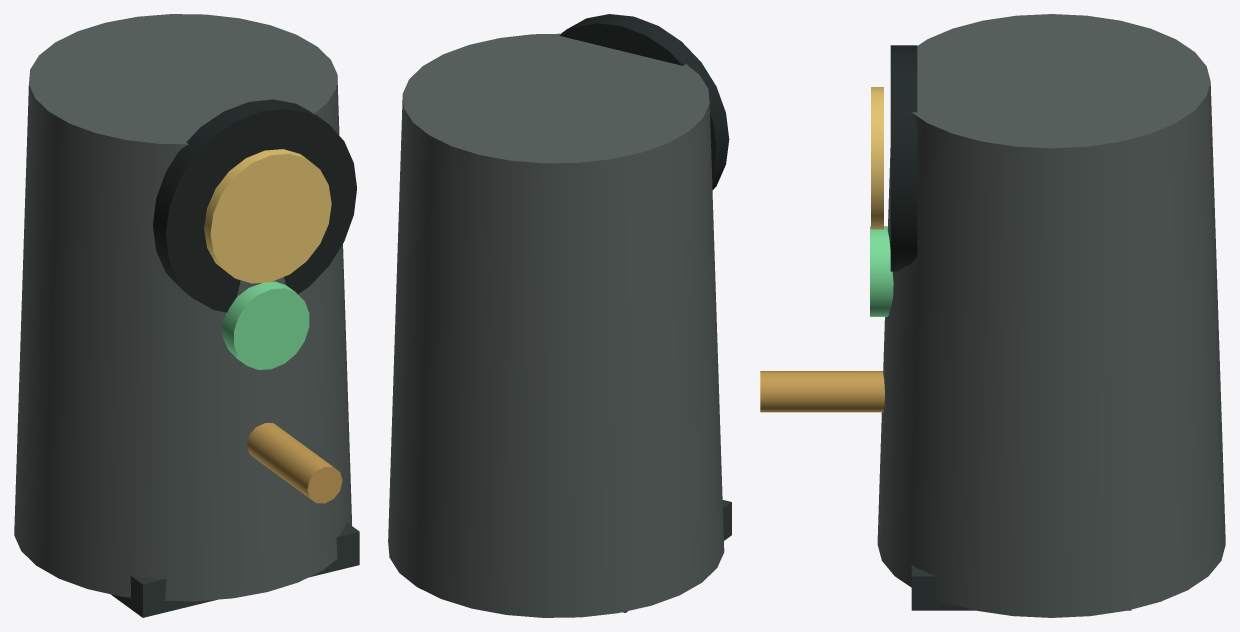
Rendered from water-dispenser.glb.
3 renders of one model, left to right at view 1: azimuth 30°, elevation 25°; view 2: azimuth 150°, elevation 25°; view 3: azimuth 270°, elevation 25°, orthographic. The views are drawn at different scales.
Parts seen in each view (by area): view 1: InsulatedBoiler, TemperatureDisplay, TemperatureFace, DispenseButton, BrassSpout, CupTray; view 2: InsulatedBoiler, TemperatureDisplay; view 3: InsulatedBoiler, TemperatureDisplay, BrassSpout, DispenseButton, TemperatureFace, CupTray.
Part boxes in pixels (<box>): InsulatedBoiler: <box>14,14,351,601</box>; TemperatureDisplay: <box>153,99,356,312</box>; TemperatureFace: <box>204,149,331,283</box>; DispenseButton: <box>222,281,309,369</box>; BrassSpout: <box>247,423,342,503</box>; CupTray: <box>111,523,359,617</box>; InsulatedBoiler: <box>388,33,724,617</box>; TemperatureDisplay: <box>559,14,729,189</box>; InsulatedBoiler: <box>877,14,1225,617</box>; TemperatureDisplay: <box>890,45,917,271</box>; BrassSpout: <box>760,371,884,412</box>; DispenseButton: <box>870,226,893,316</box>; TemperatureFace: <box>871,87,883,229</box>; CupTray: <box>911,565,1131,610</box>.
Bounding box in the file's own units: 0.92 × 1.46 × 1.23.
